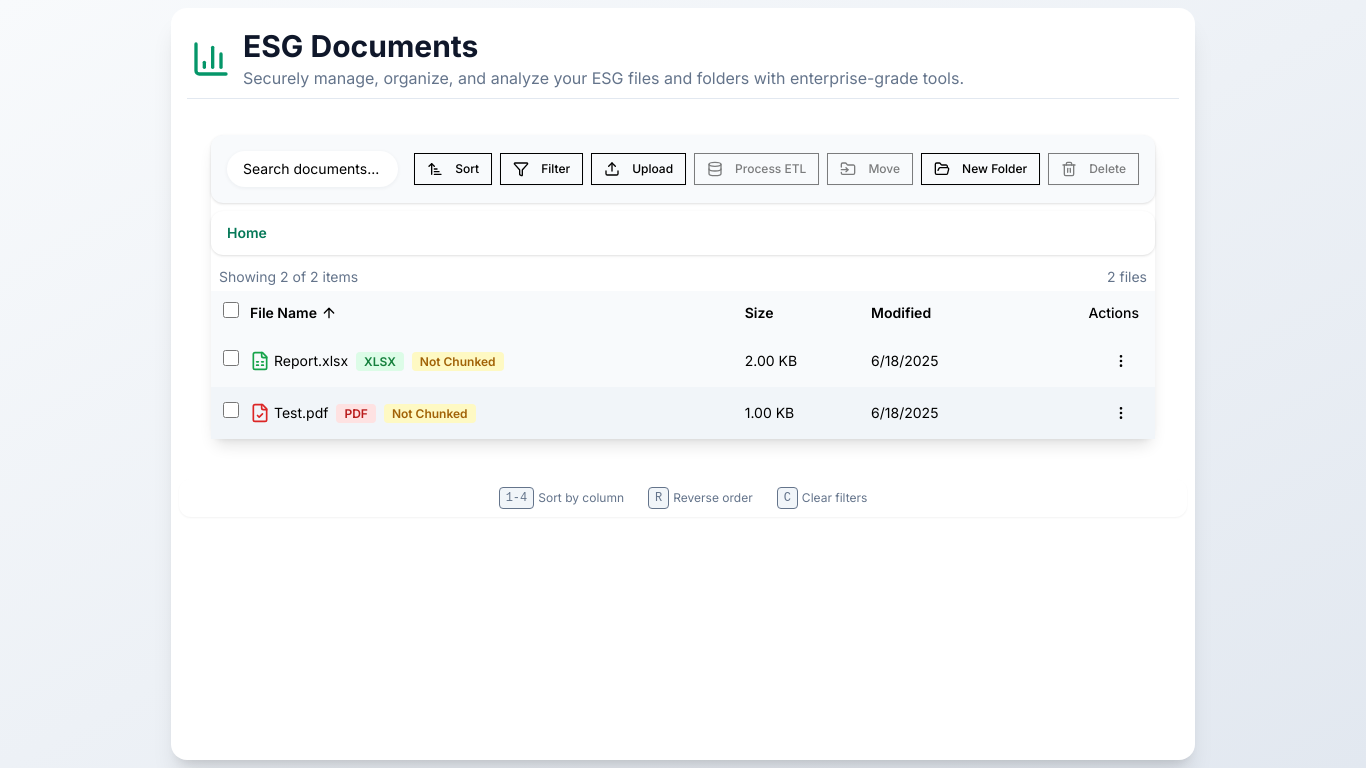
Test: ETL Processing Functionality › should show a success toast and clear selection when all selected files are processed successfully
Expected: the text "Test.pdf" is shown, left=274, top=404, right=328, bottom=420
Expected: the text "Report.xlsx" is shown, left=274, top=352, right=348, bottom=368
Click the checkbox next to "Report.xlsx" at (231, 358), box left=223, top=350, right=239, bottom=366
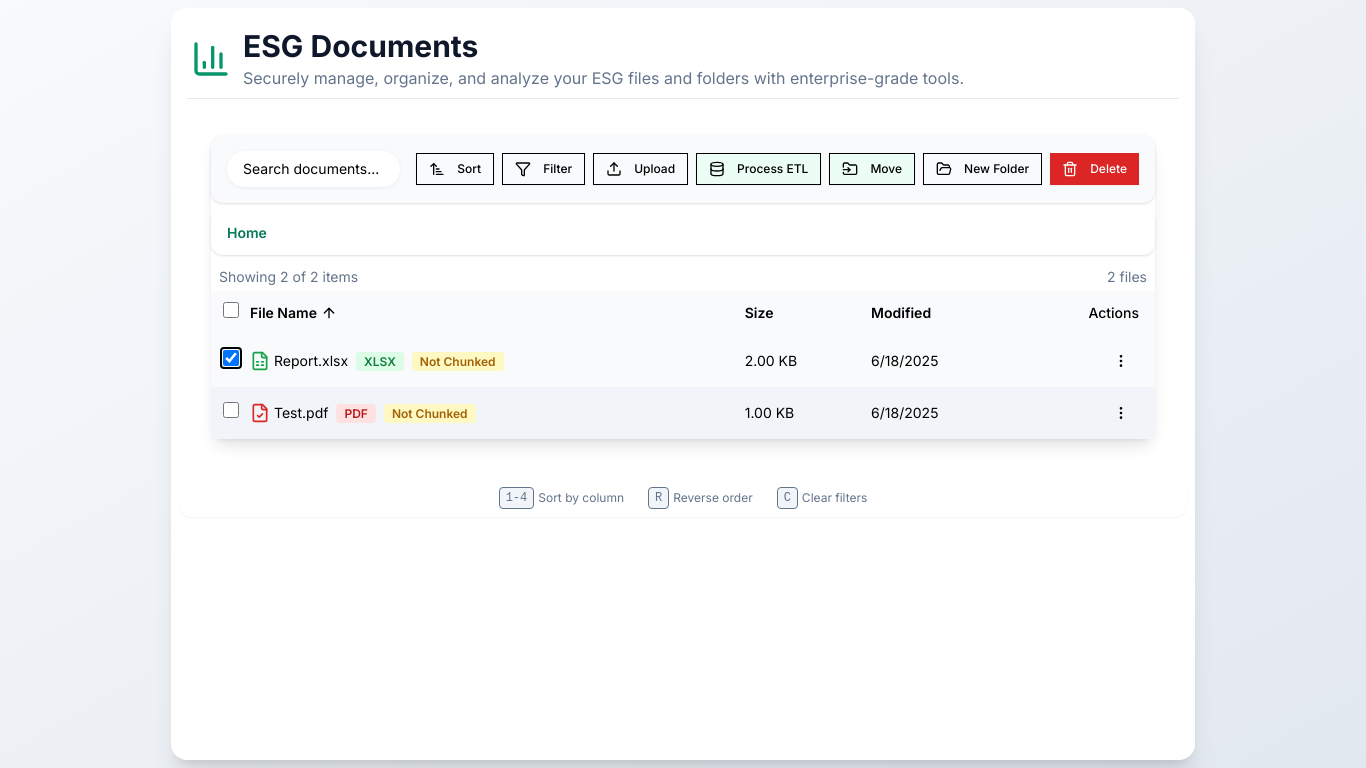
Now the button "Process ETL" is enabled
Click the button "Process ETL" at (759, 168), box left=696, top=152, right=821, bottom=184
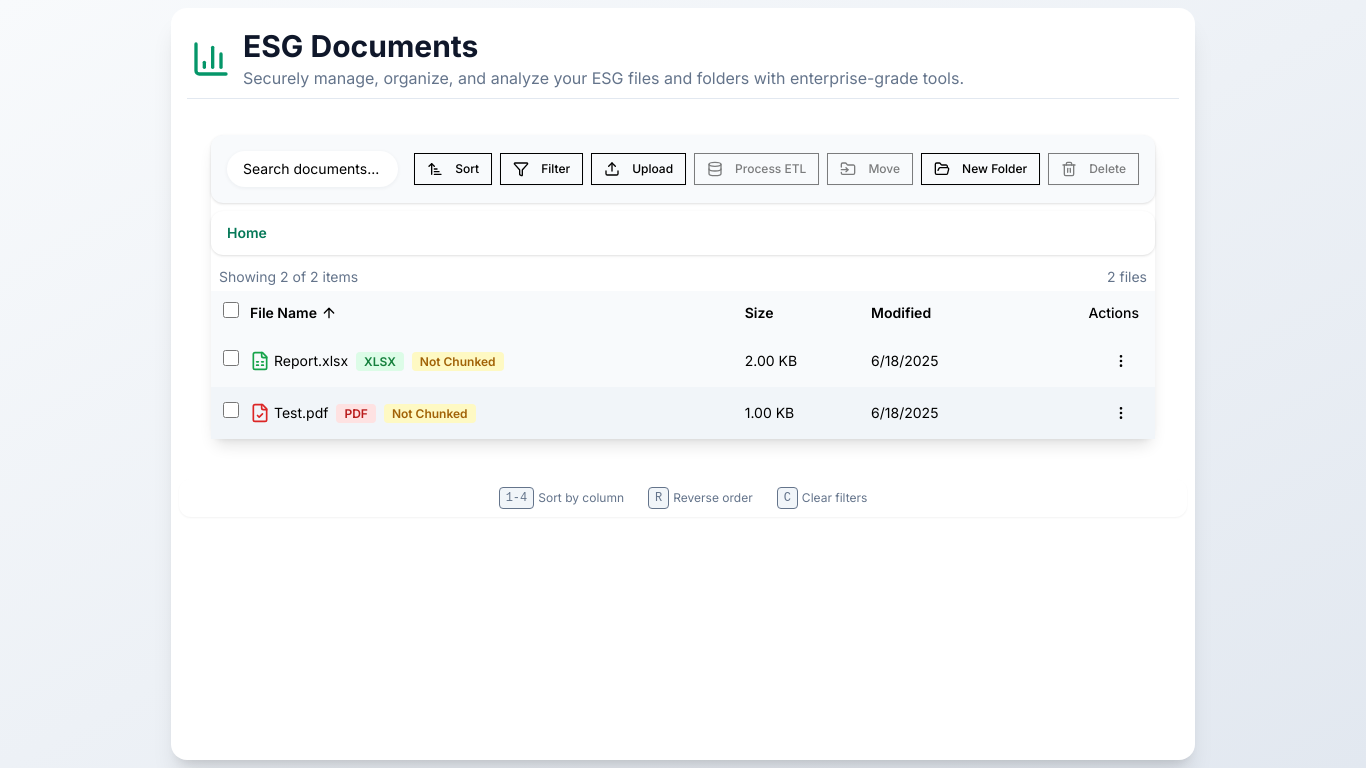
Now the checkbox next to "Report.xlsx" is not checked, box left=223, top=350, right=239, bottom=366
Now the button "Process ETL" is disabled, box left=694, top=152, right=819, bottom=184
